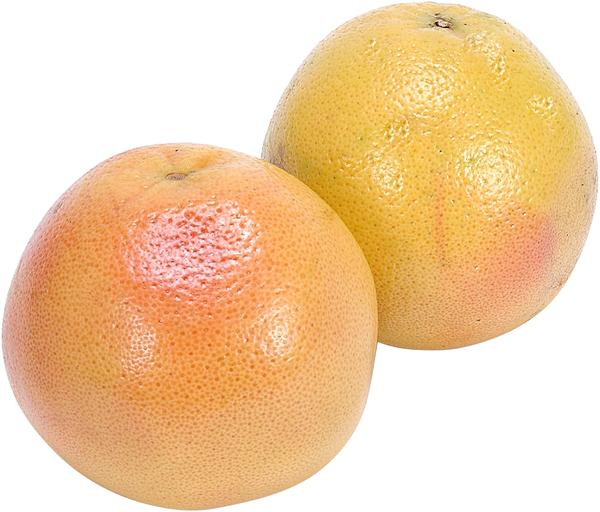grapefruit: (4, 141, 379, 507), (274, 7, 592, 343)
